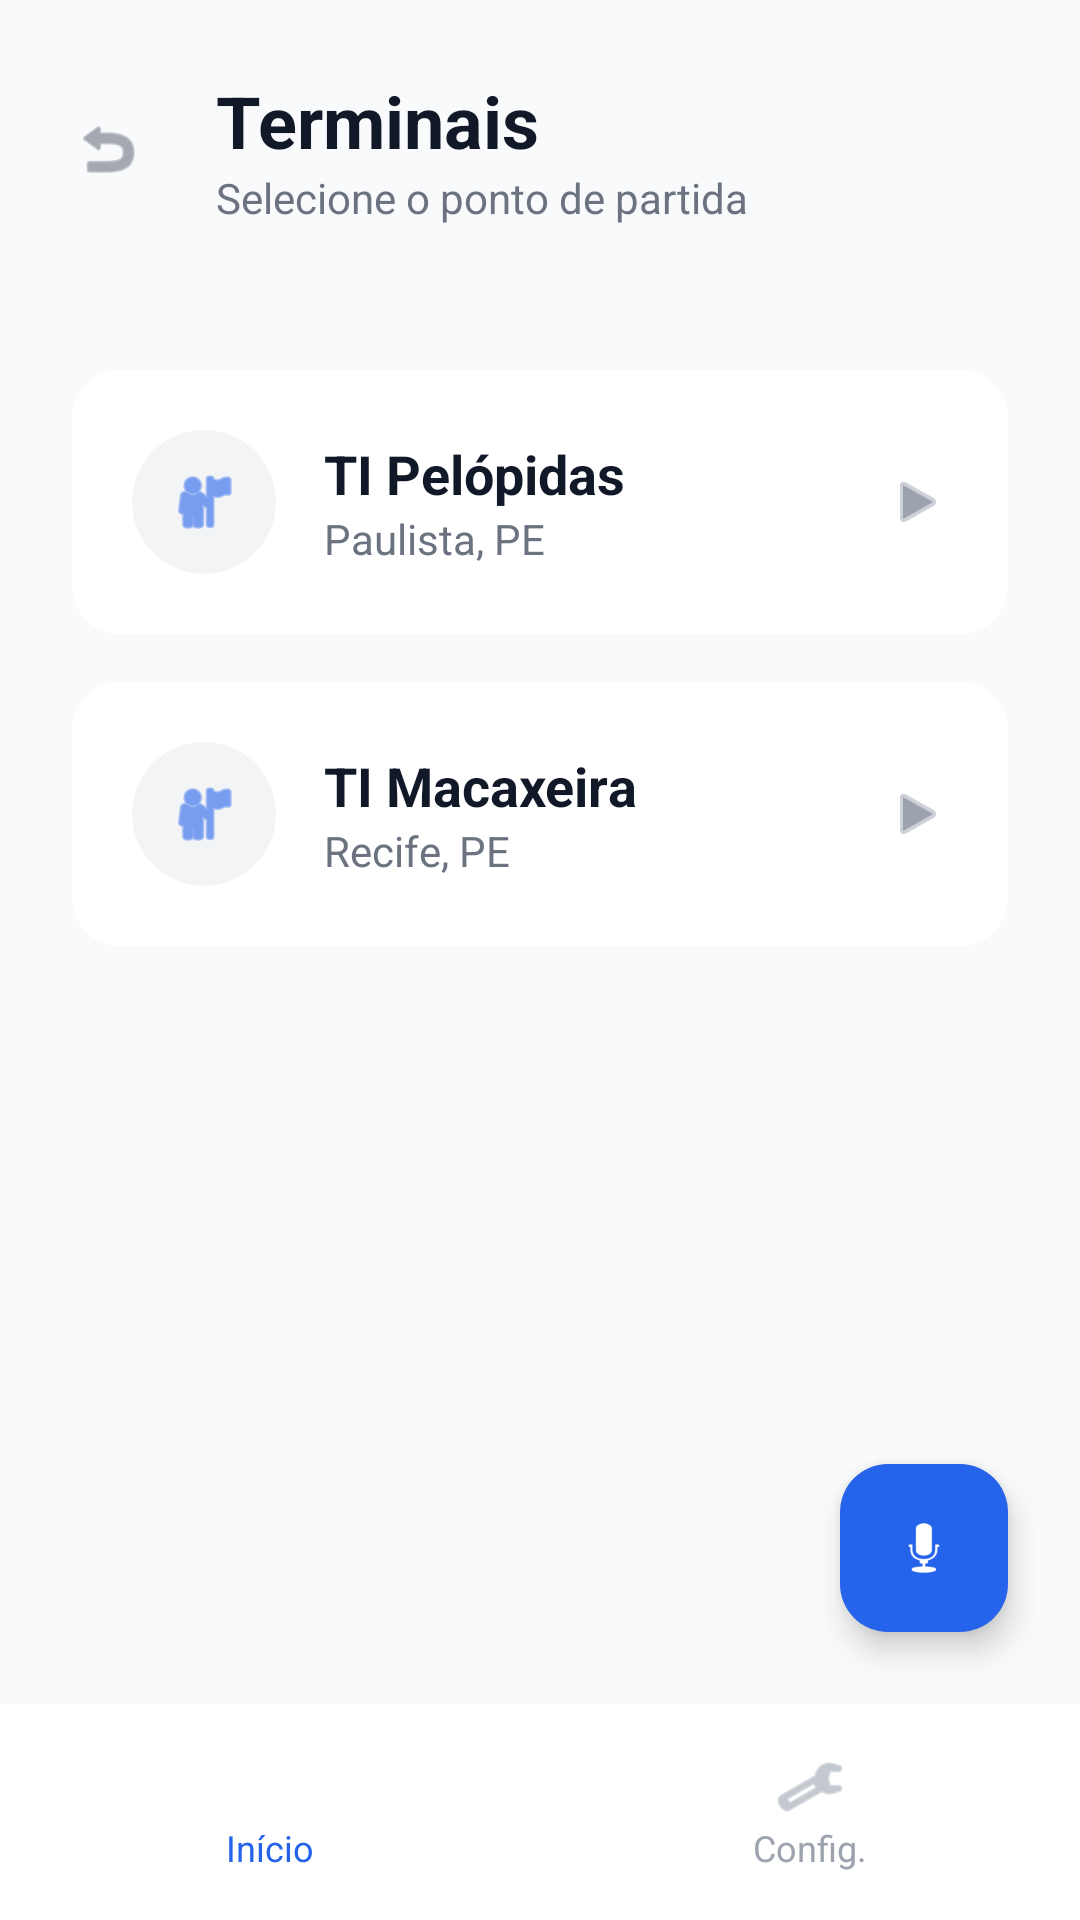

Icons on this 1080w x 1920h Android screen, each with the point to tap as point (x, y):
myplaces: point (205, 502), point (205, 814)
play: point (918, 502), point (918, 814)
revert: point (109, 149)
speak now: point (924, 1548)
